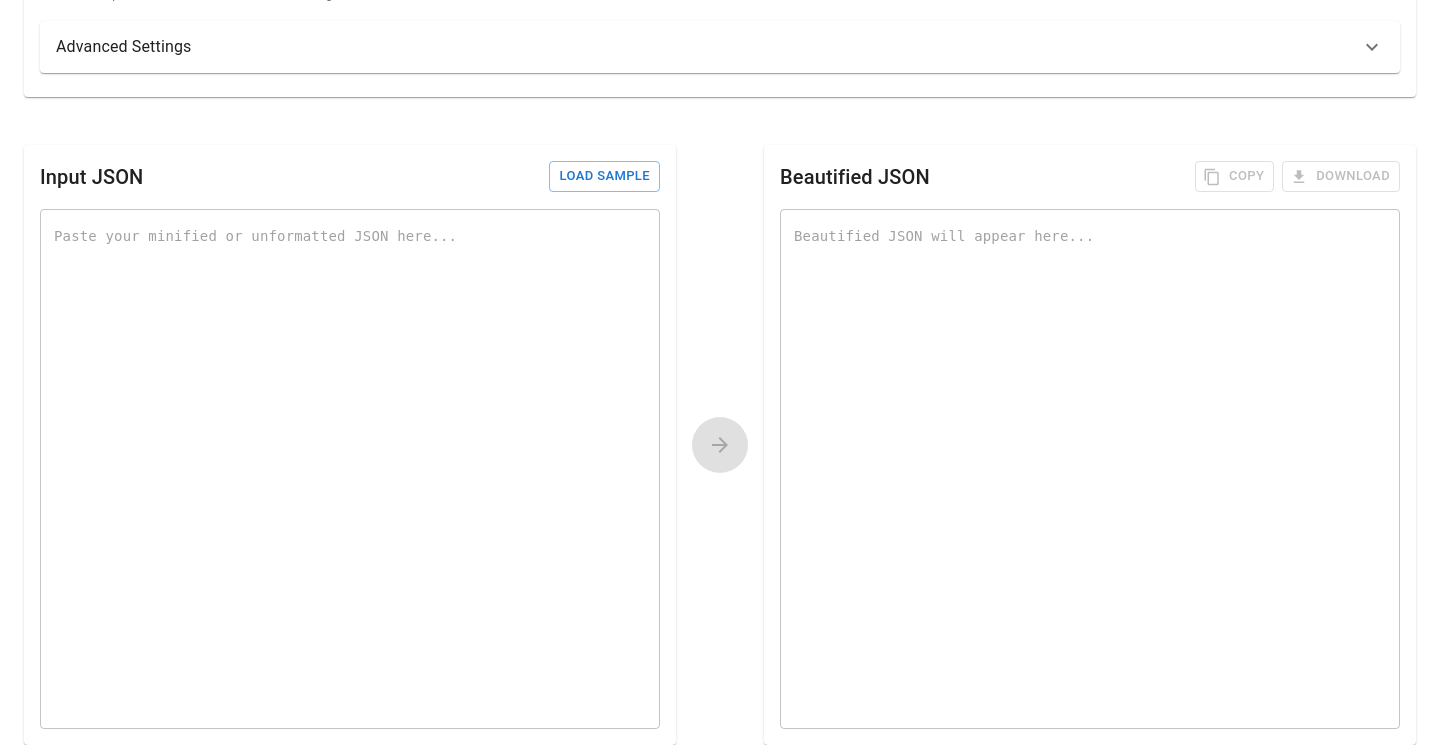
JsonBeautifierTool › should show error for invalid JSON
(page scrolled)
Expected: the 5th button is shown, [692, 417, 748, 473]
Enter invalid JSON
Clear the text box with placeholder "Paste your minified or unformatted JSON here...": [350, 469] box [54, 225, 646, 712]
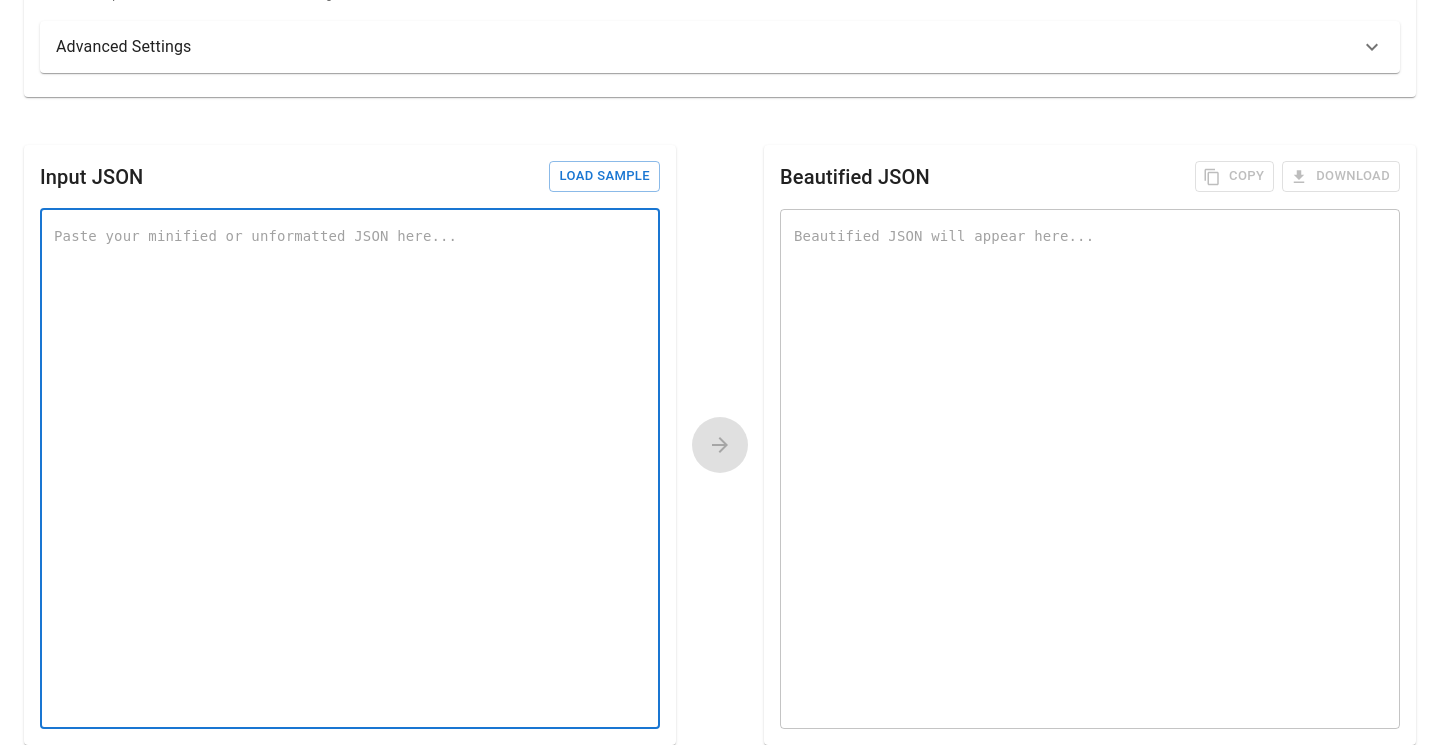
Type keys "{\"invalid\": json}"
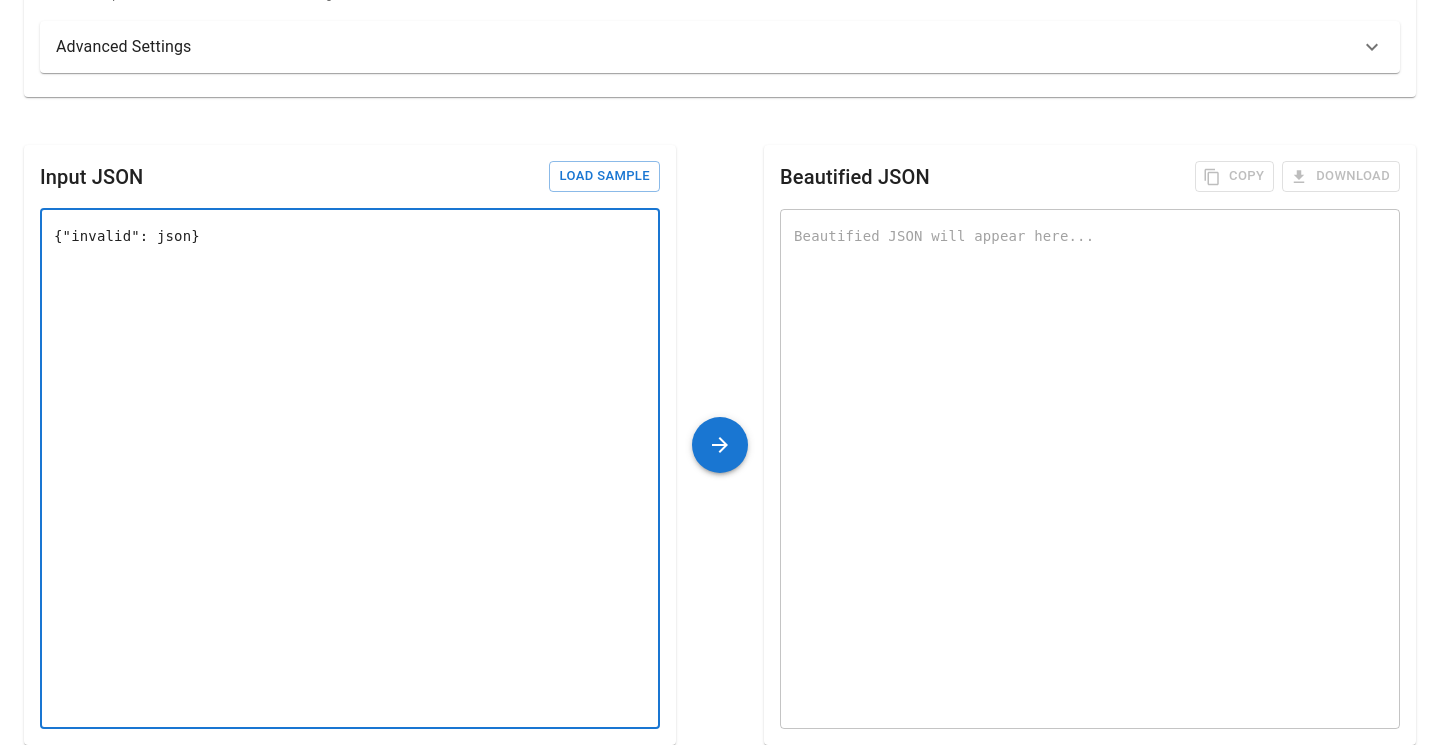
Click the 5th button: [720, 445] box [692, 417, 748, 473]
(page scrolled)
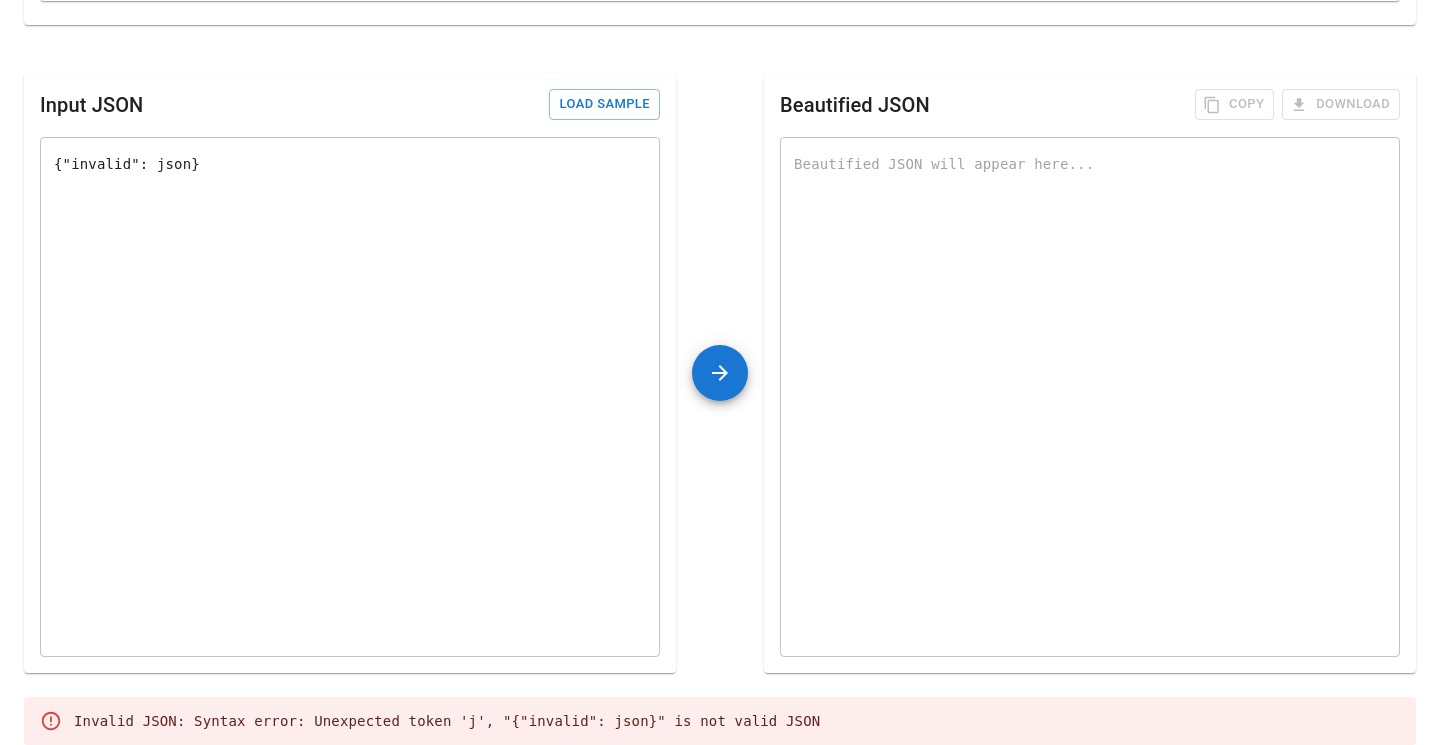
Expected: the message is shown, [24, 697, 1416, 744]
Expected: the text "Invalid JSON" is shown, [74, 713, 820, 729]
